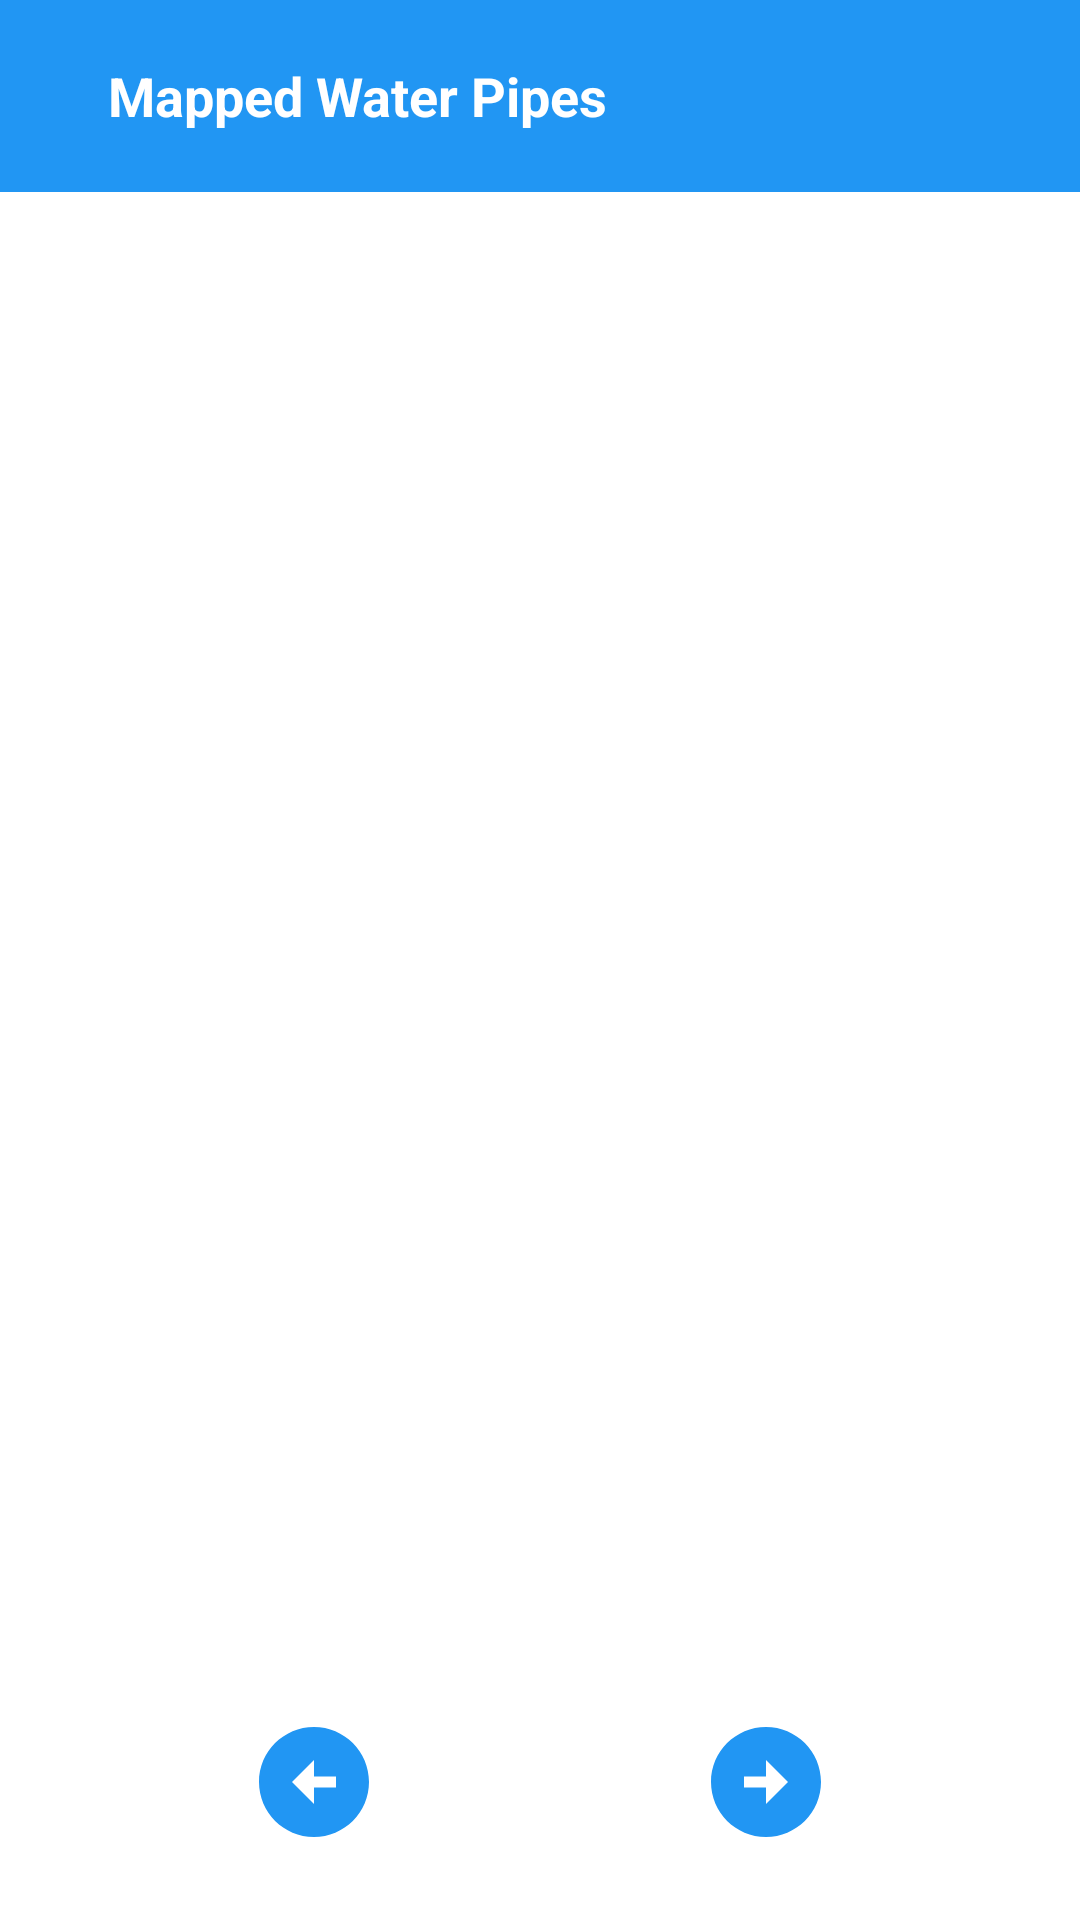

Where icons sit on this 1080*1920 app screen, as (x1, y1, x2, y2):
arrow circle left: (259, 1727, 369, 1837)
arrow circle right: (711, 1727, 821, 1837)
